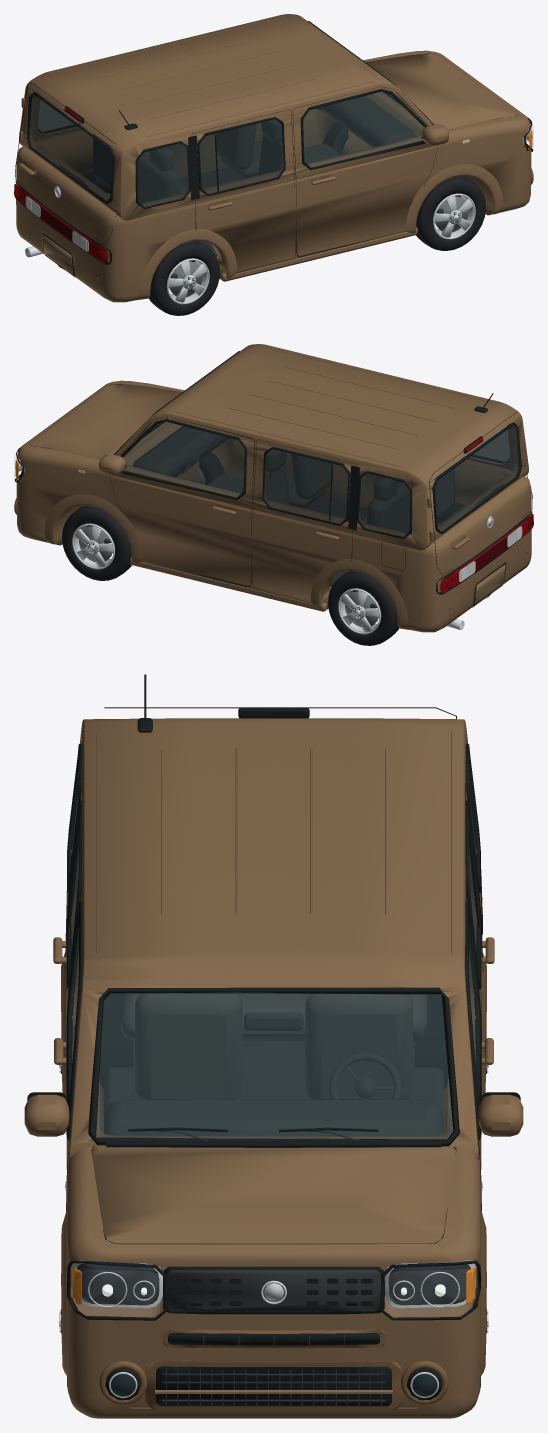
The model's file is nissan_cube.glb.
3 renders of one model, top to bottom at view 1: azimuth 30°, elevation 25°; view 2: azimuth 150°, elevation 25°; view 3: azimuth 270°, elevation 25°, orthographic. The views are drawn at different scales.
Visible parts, largest first — view 1: BrownBodywork, WraparoundGlazing, CabinAndDriver, RubberTrimAndUnderbody, RRTires, RFTires, RRAlloyRims, RFAlloyRims, HeadlightsAndIndicators, RearBrakeLights; view 2: BrownBodywork, WraparoundGlazing, CabinAndDriver, RubberTrimAndUnderbody, LRTires, LFTires, LRAlloyRims, LFAlloyRims, HeadlightsAndIndicators, RearBrakeLights; view 3: BrownBodywork, WraparoundGlazing, RubberTrimAndUnderbody, CabinAndDriver, LampGlazing, HeadlightsAndIndicators, ChromeHandlesGrilleAndBadges.
Part boxes in pixels (left/top/right/bottom): BrownBodywork: left=16, top=14, right=533, bottom=302; WraparoundGlazing: left=28, top=91, right=424, bottom=206; CabinAndDriver: left=93, top=96, right=414, bottom=261; RubberTrimAndUnderbody: left=15, top=21, right=533, bottom=275; RRTires: left=148, top=240, right=219, bottom=315; RFTires: left=416, top=175, right=485, bottom=250; RRAlloyRims: left=166, top=258, right=209, bottom=304; RFAlloyRims: left=433, top=193, right=475, bottom=239; HeadlightsAndIndicators: left=14, top=126, right=532, bottom=258; RearBrakeLights: left=14, top=107, right=107, bottom=262; BrownBodywork: left=14, top=344, right=531, bottom=632; WraparoundGlazing: left=123, top=421, right=519, bottom=536; CabinAndDriver: left=133, top=426, right=454, bottom=591; RubberTrimAndUnderbody: left=14, top=351, right=532, bottom=605; LRTires: left=328, top=570, right=399, bottom=645; LFTires: left=62, top=505, right=131, bottom=580; LRAlloyRims: left=338, top=588, right=381, bottom=634; LFAlloyRims: left=72, top=523, right=114, bottom=569; HeadlightsAndIndicators: left=15, top=456, right=533, bottom=588; RearBrakeLights: left=440, top=437, right=533, bottom=592; BrownBodywork: left=24, top=718, right=523, bottom=1418; WraparoundGlazing: left=69, top=766, right=478, bottom=1396; RubberTrimAndUnderbody: left=27, top=674, right=520, bottom=1406; CabinAndDriver: left=104, top=993, right=443, bottom=1135; LampGlazing: left=73, top=1269, right=474, bottom=1316; HeadlightsAndIndicators: left=65, top=1182, right=482, bottom=1308; ChromeHandlesGrilleAndBadges: left=88, top=1271, right=459, bottom=1398.
Size of the model in its own units: 4.17 by 1.86 by 2.05.
